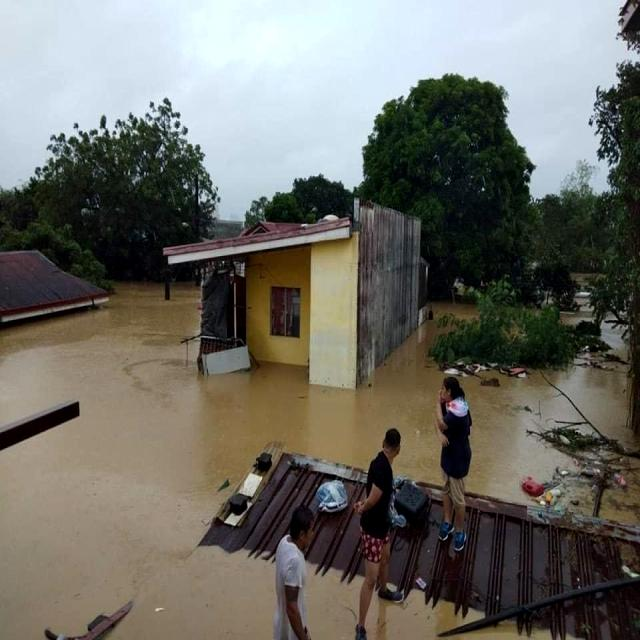civilian: (348, 420, 403, 636), (270, 494, 322, 638), (436, 368, 476, 555)
